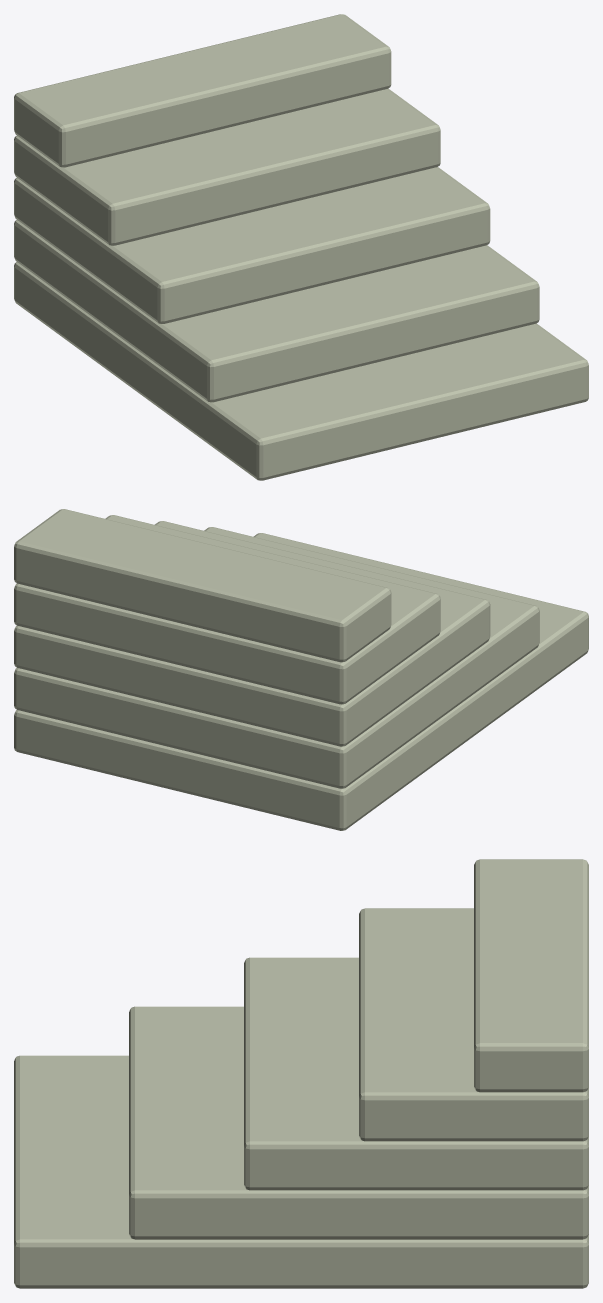
The model's file is attachment_steps_080.glb.
3 views of the same model, one above another, from view 1: azimuth 30°, elevation 25°; view 2: azimuth 150°, elevation 25°; view 3: azimuth 270°, elevation 25° (orthographic). The views are drawn at different scales.
Parts seen in each view (by area): view 1: attachment_steps_080__attachments; view 2: attachment_steps_080__attachments; view 3: attachment_steps_080__attachments.
Part boxes in pixels (x1,y1,x2,y2): attachment_steps_080__attachments: (14, 14, 588, 480); attachment_steps_080__attachments: (14, 509, 588, 830); attachment_steps_080__attachments: (14, 859, 588, 1288).
Bounding box in the file's own units: 1.32 × 0.8 × 1.7.
